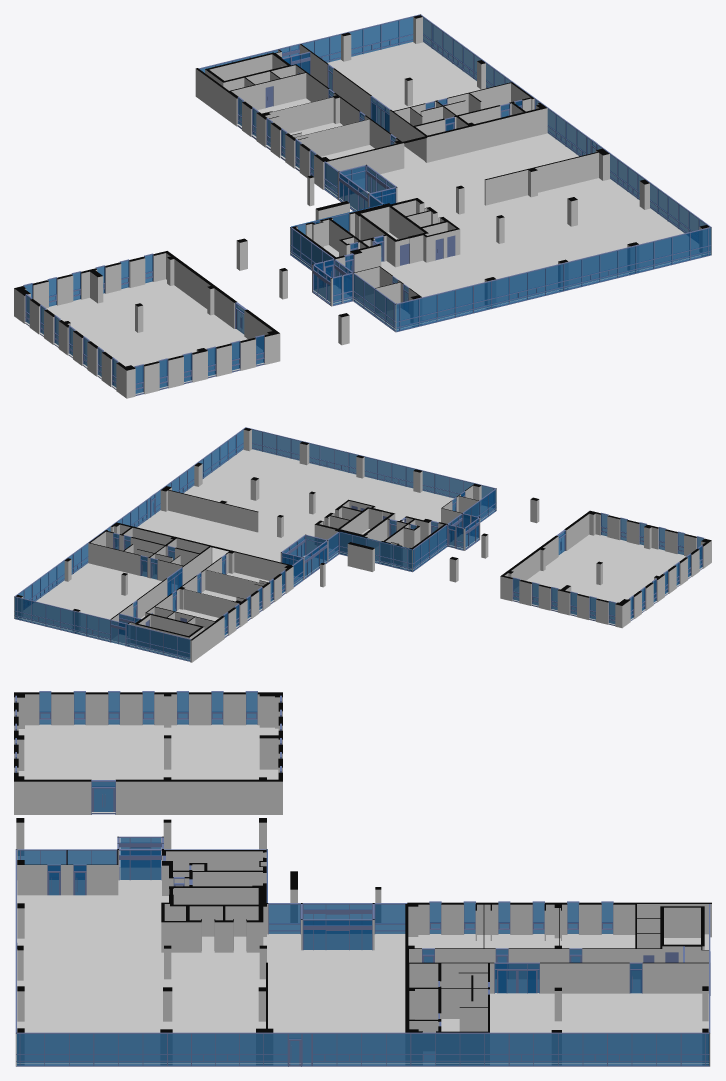
The picture shows the model from 3 angles, top to bottom: view 1: azimuth 30°, elevation 25°; view 2: azimuth 150°, elevation 25°; view 3: azimuth 270°, elevation 25°; orthographic projection. The views are drawn at different scales.
Visible parts, largest first — view 1: Rectangle070, Line230, Plane041, 1F, Plane046, Box380; view 2: Rectangle070, Line230, 1F, Plane041, Plane046, Box380, Box382; view 3: Line230, Rectangle070, Plane041, 1F, Plane046, Box380, Box382, Box502, Box381.
Boxes of the visible parts, bbox=[...] form: Rectangle070: bbox=[14, 14, 711, 398]; Line230: bbox=[237, 42, 710, 329]; Plane041: bbox=[200, 17, 711, 331]; 1F: bbox=[23, 14, 711, 395]; Plane046: bbox=[25, 279, 264, 394]; Box380: bbox=[24, 255, 263, 393]; Rectangle070: bbox=[14, 427, 711, 662]; Line230: bbox=[15, 449, 495, 659]; 1F: bbox=[14, 427, 704, 661]; Plane041: bbox=[14, 429, 496, 660]; Plane046: bbox=[513, 534, 702, 624]; Box380: bbox=[513, 514, 703, 624]; Box382: bbox=[224, 571, 284, 634]; Line230: bbox=[17, 867, 708, 1063]; Rectangle070: bbox=[14, 692, 711, 1066]; Plane041: bbox=[16, 850, 709, 1065]; 1F: bbox=[15, 691, 710, 1066]; Plane046: bbox=[18, 724, 278, 812]; Box380: bbox=[16, 692, 257, 811]; Box382: bbox=[430, 902, 612, 933]; Box502: bbox=[495, 964, 539, 993]; Box381: bbox=[429, 901, 613, 933].
Size of the model in its own units: 65.7 by 3.17 by 56.8.
